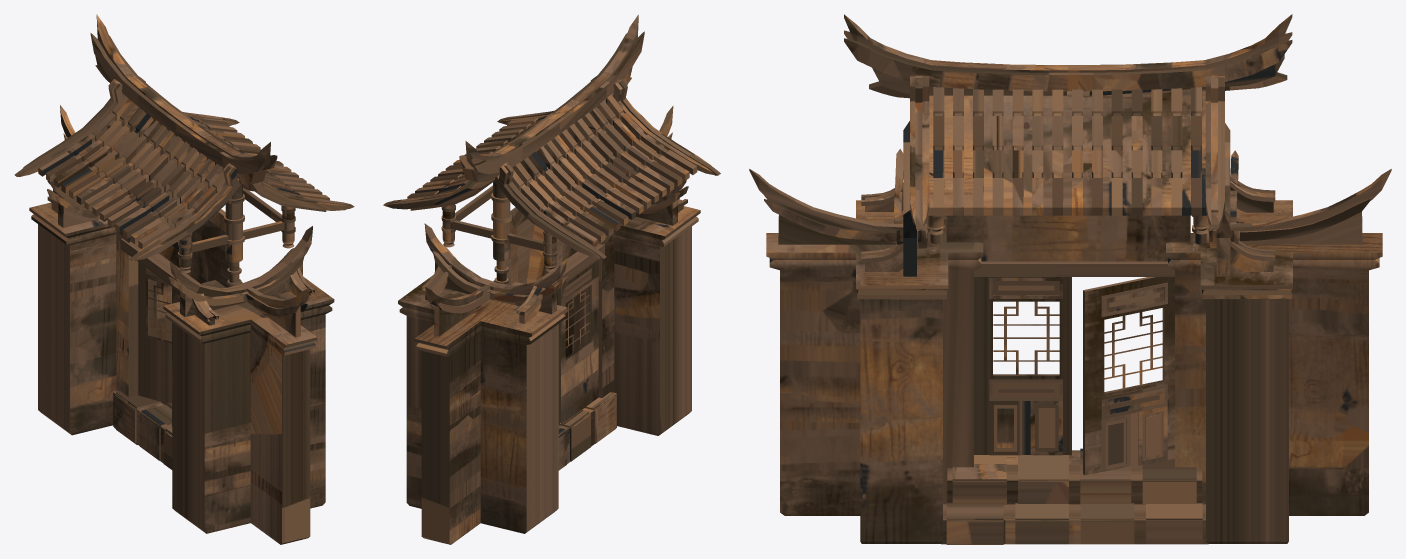
Rendered from Gate.fbx.
The picture shows the model from 3 angles, left to right: view 1: azimuth 30°, elevation 25°; view 2: azimuth 150°, elevation 25°; view 3: azimuth 270°, elevation 25°; orthographic projection. The views are drawn at different scales.
Visible parts, largest first — view 1: Cube.007, Cube.008, Cube.001, Cube.006, Circle, Cube.003, Cube.028, Cube.026, Cube.004, Circle.004, Cube.021, Cube.023 (+10 smaller); view 2: Cube.008, Cube.007, Cube.001, Cube.006, Cube.011, Circle, Cube.003, Cube.028, Cube.004, Circle.003, Cube.015, Cube.019 (+9 smaller); view 3: Cube.008, Cube.007, Cube.001, Cube, Cube.026, Cube.011, Cube.010, Circle, Cube.009, Cube.003, Cube.006, Cube.004 (+11 smaller).
Part boxes in pixels (left/top/right/bottom): Cube.007: left=163, top=277, right=334, bottom=544; Cube.008: left=29, top=181, right=171, bottom=435; Cube.001: left=38, top=95, right=329, bottom=248; Cube.006: left=14, top=76, right=354, bottom=261; Circle: left=159, top=186, right=244, bottom=287; Cube.003: left=90, top=33, right=277, bottom=174; Cube.028: left=113, top=391, right=172, bottom=469; Cube.026: left=138, top=262, right=171, bottom=403; Cube.004: left=96, top=14, right=270, bottom=168; Circle.004: left=191, top=206, right=295, bottom=252; Cube.021: left=246, top=287, right=309, bottom=337; Cube.023: left=239, top=226, right=312, bottom=302; Cube.008: left=398, top=275, right=567, bottom=544; Cube.007: left=557, top=206, right=700, bottom=435; Cube.001: left=407, top=94, right=697, bottom=246; Cube.006: left=383, top=76, right=720, bottom=259; Cube.011: left=558, top=259, right=598, bottom=424; Circle: left=491, top=180, right=576, bottom=284; Cube.003: left=459, top=31, right=644, bottom=174; Cube.028: left=558, top=392, right=616, bottom=470; Cube.004: left=465, top=14, right=638, bottom=167; Circle.003: left=441, top=185, right=543, bottom=251; Cube.015: left=425, top=285, right=490, bottom=336; Cube.019: left=424, top=223, right=498, bottom=293; Cube.008: left=1166, top=200, right=1382, bottom=543; Cube.007: left=766, top=200, right=983, bottom=543; Cube.001: left=933, top=87, right=1201, bottom=215; Cube: left=928, top=90, right=1206, bottom=215; Cube.026: left=1083, top=277, right=1174, bottom=475; Cube.011: left=974, top=277, right=1071, bottom=455; Cube.010: left=941, top=503, right=1208, bottom=544; Circle: left=927, top=215, right=1209, bottom=261; Cube.009: left=947, top=464, right=1202, bottom=504; Cube.003: left=844, top=30, right=1292, bottom=91; Cube.006: left=910, top=75, right=1224, bottom=229; Cube.004: left=844, top=14, right=1292, bottom=72.
Bounding box in the file's own units: 246 × 405 × 477.
